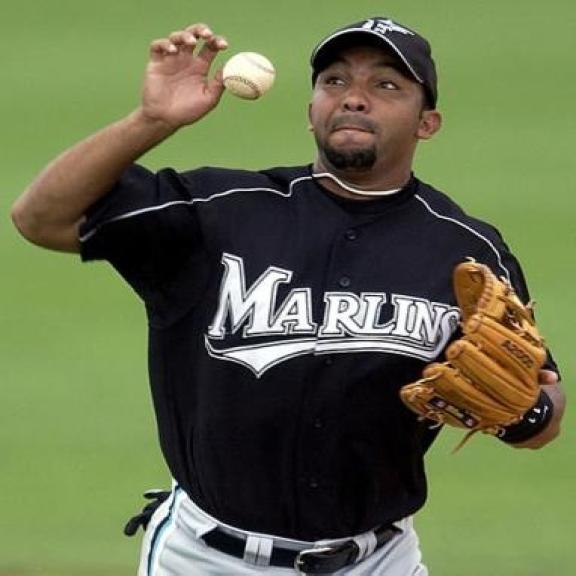face: (308, 46, 450, 178)
